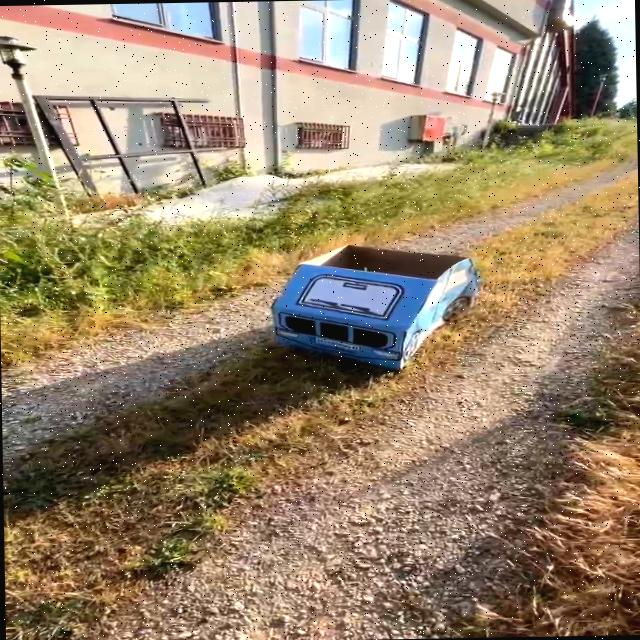blue_car: (228, 227, 502, 401)
